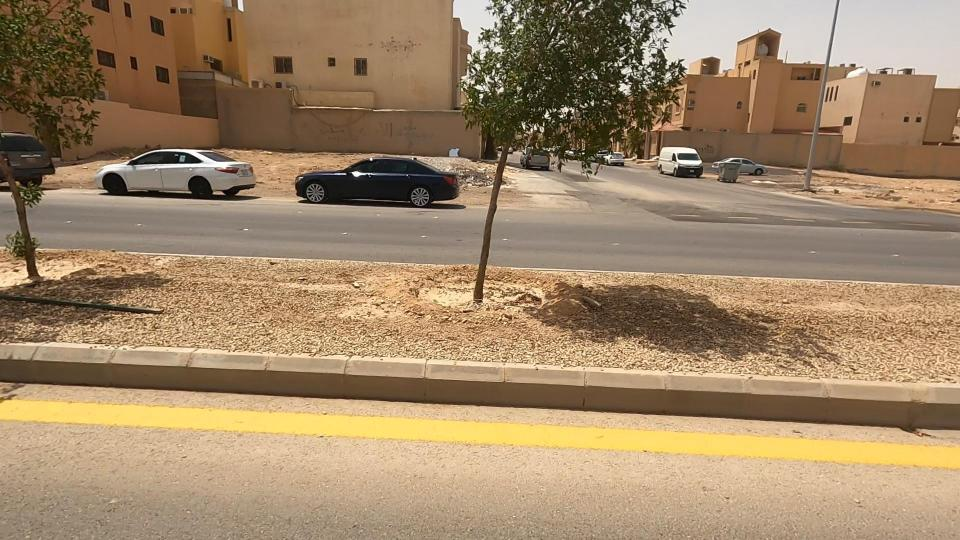CLUTTER_SIDEWALK: (0, 185, 720, 415), (379, 223, 960, 431)
